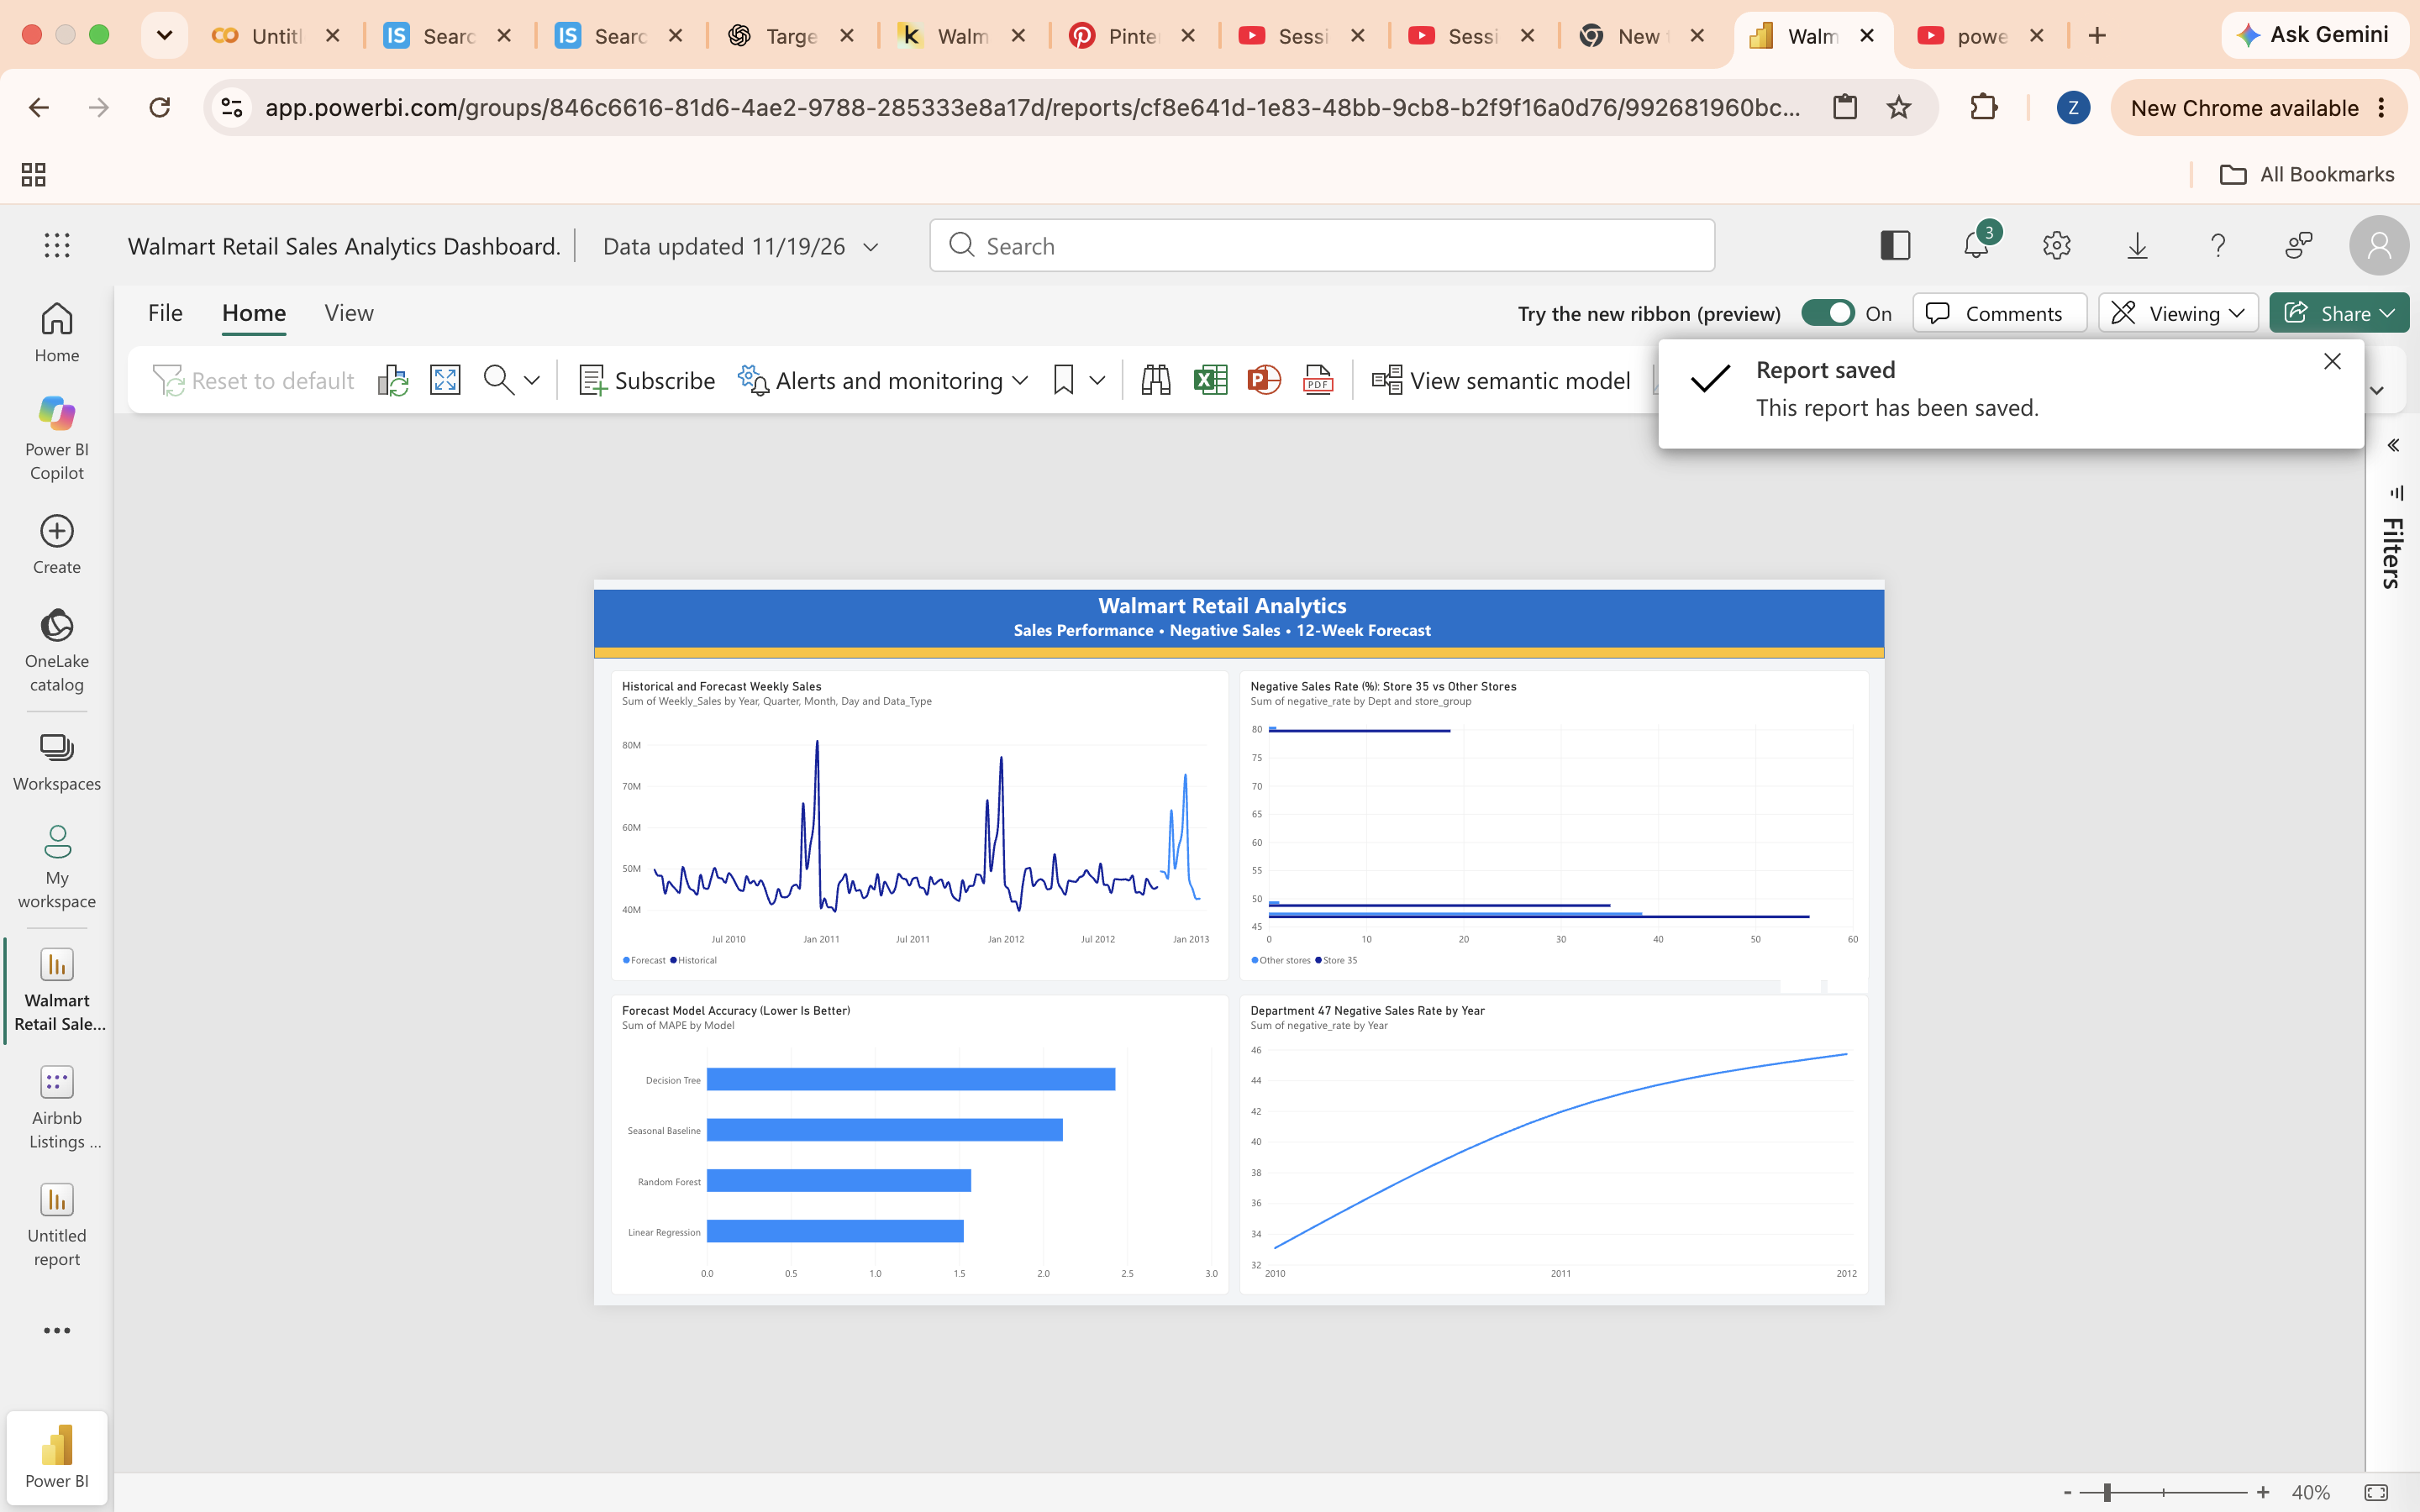

This screenshot's page, from the dashboard's own definition file:
{"tool":"powerbi","page":{"name":"Sales Overview","canvas":[1920,1080],"ordinal":0},"visuals":[{"type":"lineChart","title":"Historical and Forecast Weekly Sales","fields":{"Category":["Sales_Forecast.Date.Variation.Date Hierarchy.Year","Sales_Forecast.Date.Variation.Date Hierarchy.Quarter","Sales_Forecast.Date.Variation.Date Hierarchy.Month","Sales_Forecast.Date.Variation.Date Hierarchy.Day"],"Series":["Sales_Forecast.Data_Type"],"Y":["Sum(Sales_Forecast.Weekly_Sales)"]},"box":[25,135,920,462.5],"z":0},{"type":"clusteredBarChart","title":"Forecast Model Accuracy (Lower Is Better)","fields":{"Category":["Model_Results.Model"],"Y":["Sum(Model_Results.MAPE)"]},"box":[24.3,616.9,920.2,447],"z":1000},{"type":"clusteredBarChart","title":"Negative Sales Rate (%): Store 35 vs Other Stores","fields":{"Category":["Negative_Sales.Dept"],"Series":["Negative_Sales.store_group"],"Y":["Sum(Negative_Sales.negative_rate)"]},"box":[960,135,937.5,462.5],"z":2000},{"type":"lineChart","title":"Department 47 Negative Sales Rate by Year","fields":{"Category":["Dept47_Yearly.Year"],"Y":["Sum(Dept47_Yearly.negative_rate)"]},"box":[960.7,616.9,936.4,447],"z":3000},{"type":"shape","box":[0,16.2,1919.3,84.9],"z":4000},{"type":"textbox","box":[262.5,15,1345,85],"z":5000},{"type":"shape","box":[0,100,1920,17.5],"z":5001}]}

Visuals, with their boxes on the page's 1920x1080 design canvas (x1, y1, x2, y2). These are canvas units, not pixel positions in the 2420x1512 screenshot, which may show the page scaled, cropped or inside an application window:
"Historical and Forecast Weekly Sales" lineChart: x1=25 y1=135 x2=945 y2=598
"Forecast Model Accuracy (Lower Is Better)" clusteredBarChart: x1=24 y1=617 x2=944 y2=1064
"Negative Sales Rate (%): Store 35 vs Other Stores" clusteredBarChart: x1=960 y1=135 x2=1898 y2=598
"Department 47 Negative Sales Rate by Year" lineChart: x1=961 y1=617 x2=1897 y2=1064
shape: x1=0 y1=16 x2=1919 y2=101
textbox: x1=262 y1=15 x2=1608 y2=100
shape: x1=0 y1=100 x2=1920 y2=118
